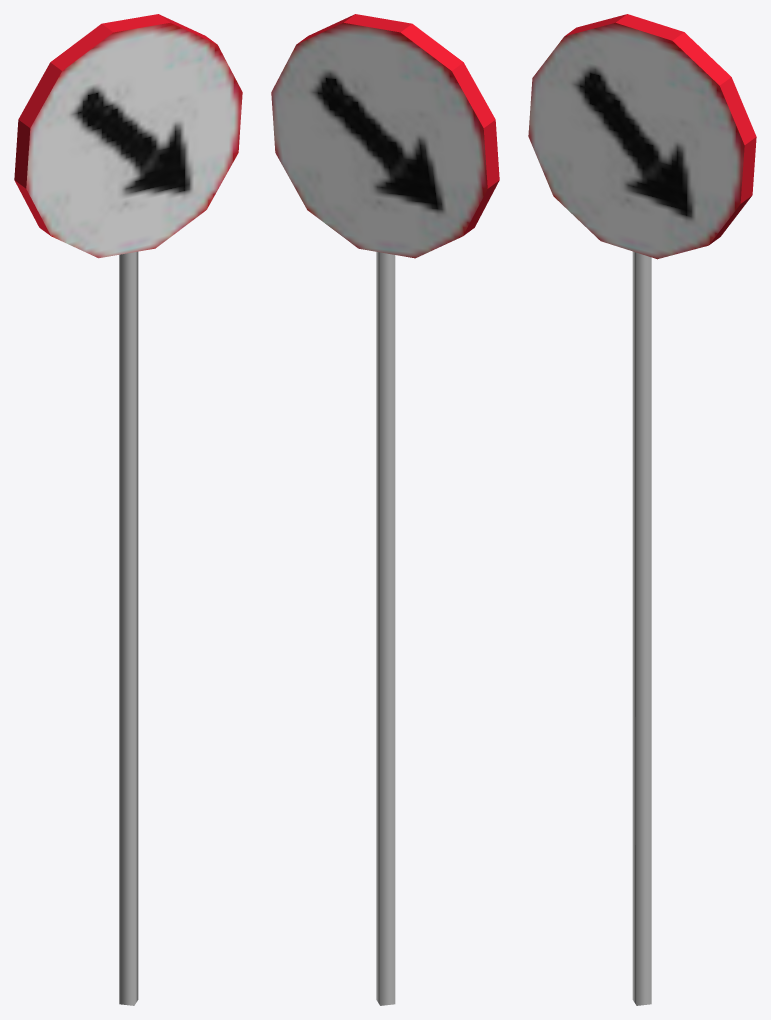
The model's file is Right sign.fbx.
3 views of the same model, side by side, from view 1: azimuth 30°, elevation 25°; view 2: azimuth 150°, elevation 25°; view 3: azimuth 330°, elevation 25° (orthographic).
Parts seen in each view (by area): view 1: Right sign; view 2: Right sign; view 3: Right sign.
Part boxes in pixels (left/top/right/bottom): Right sign: left=14, top=14, right=242, bottom=1005; Right sign: left=271, top=14, right=499, bottom=1005; Right sign: left=528, top=14, right=756, bottom=1005.
Size of the model in its own units: 7.38 by 31.89 by 0.7061.
